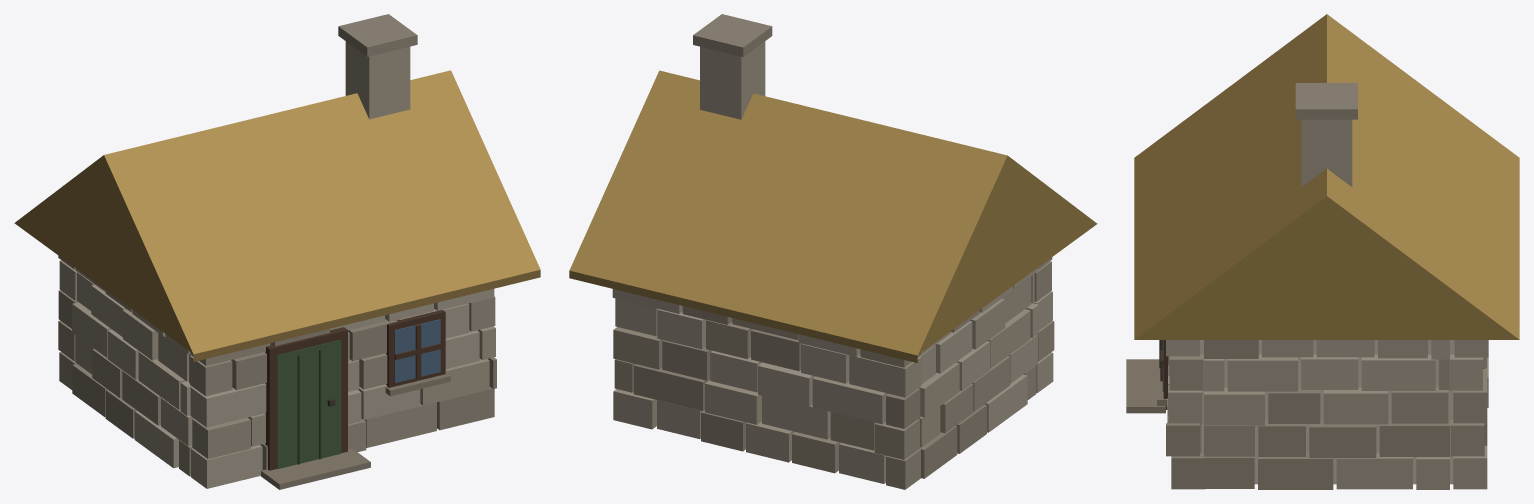
Rendered from house_small.glb.
The picture shows the model from 3 angles, left to right: view 1: azimuth 30°, elevation 25°; view 2: azimuth 150°, elevation 25°; view 3: azimuth 270°, elevation 25°; orthographic projection. The views are drawn at different scales.
Visible parts, largest first — view 1: house_small; view 2: house_small; view 3: house_small.
Boxes of the visible parts, x1,y1,x2,y2 form: house_small: [14, 14, 540, 489]; house_small: [569, 14, 1097, 489]; house_small: [1126, 14, 1519, 489].
Size of the model in its own units: 3.8 by 3.6 by 3.47.
